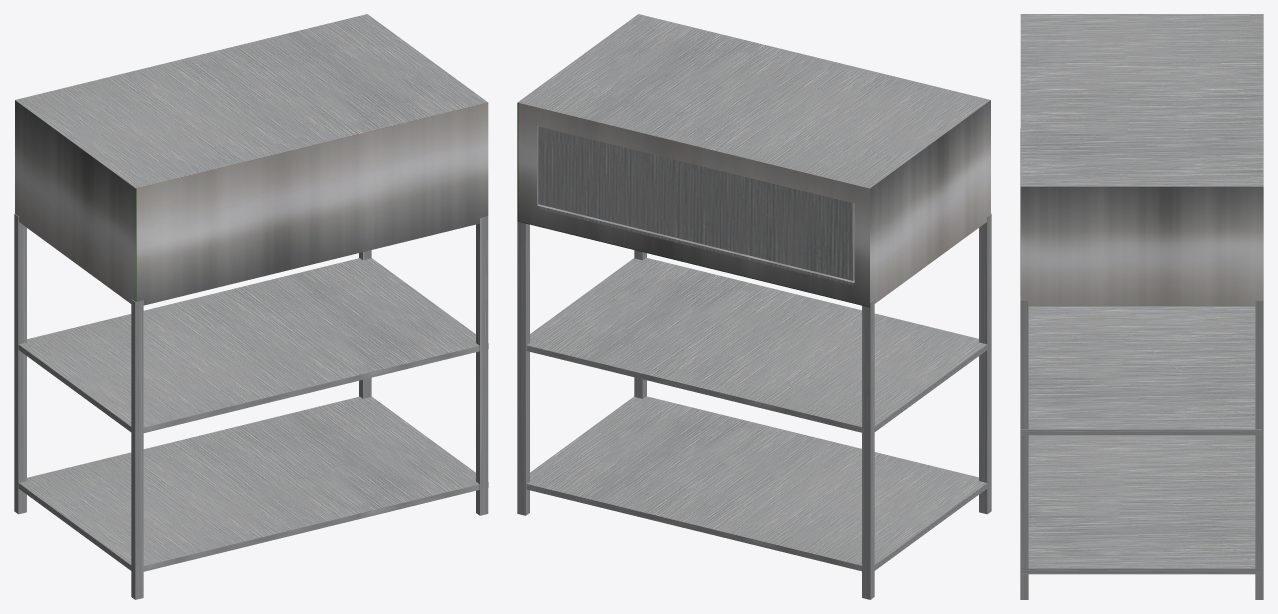
File: mesa.FBX
The picture shows the model from 3 angles, left to right: view 1: azimuth 30°, elevation 25°; view 2: azimuth 150°, elevation 25°; view 3: azimuth 270°, elevation 25°; orthographic projection.
Parts seen in each view (by area): view 1: Box055, Box053, Box054, Box059, Box057, Box058; view 2: Box055, Box054, Box053, Box060, Box058, Box056, Box059; view 3: Box055, Box053, Box054, Box057, Box056.
Part boxes in pixels (x1,y1,x2,y2): Box055: (15, 14, 488, 305); Box053: (18, 396, 488, 571); Box054: (18, 258, 488, 432); Box059: (131, 299, 143, 599); Box057: (476, 216, 488, 515); Box058: (14, 213, 26, 514); Box055: (517, 14, 990, 307); Box054: (526, 257, 987, 432); Box053: (526, 396, 987, 571); Box060: (538, 126, 854, 280); Box058: (862, 299, 874, 599); Box056: (517, 221, 529, 515); Box059: (979, 213, 991, 514); Box055: (1020, 14, 1263, 306); Box053: (1021, 435, 1261, 574); Box054: (1021, 306, 1261, 435); Box057: (1020, 297, 1028, 599); Box056: (1255, 301, 1263, 599).
Bounding box in the file's own units: 19.7 × 21.89 × 11.68.
